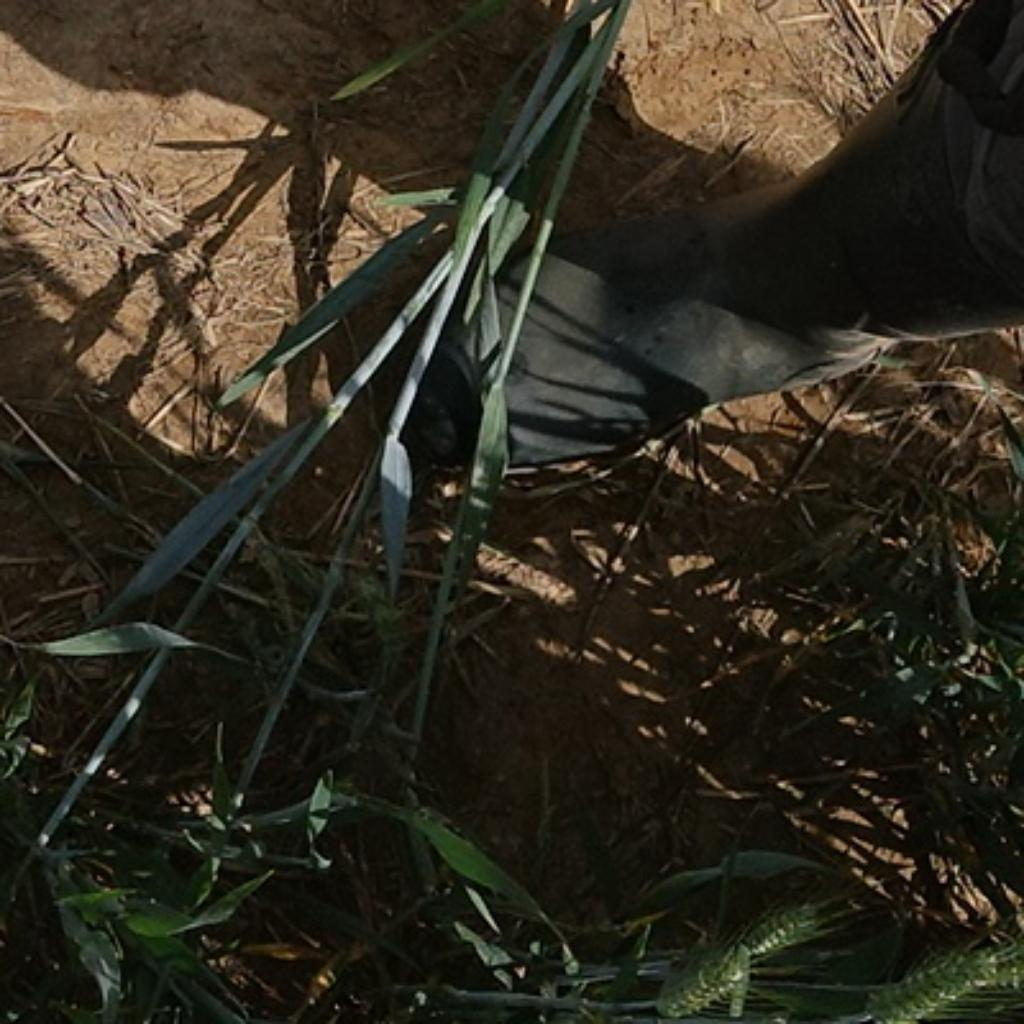0-0: (727, 890, 852, 967), (862, 956, 998, 1024), (642, 944, 747, 1024), (904, 942, 1023, 998)
